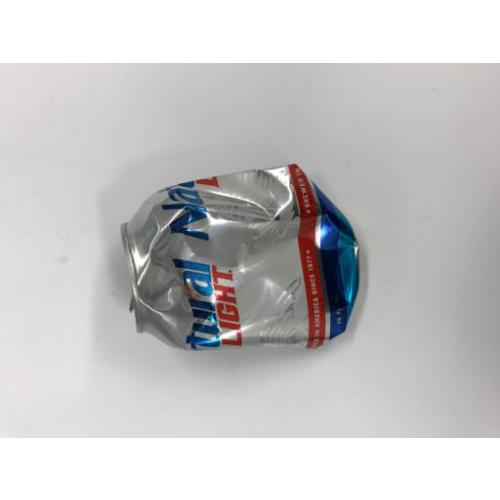metal: (124, 167, 359, 351)
